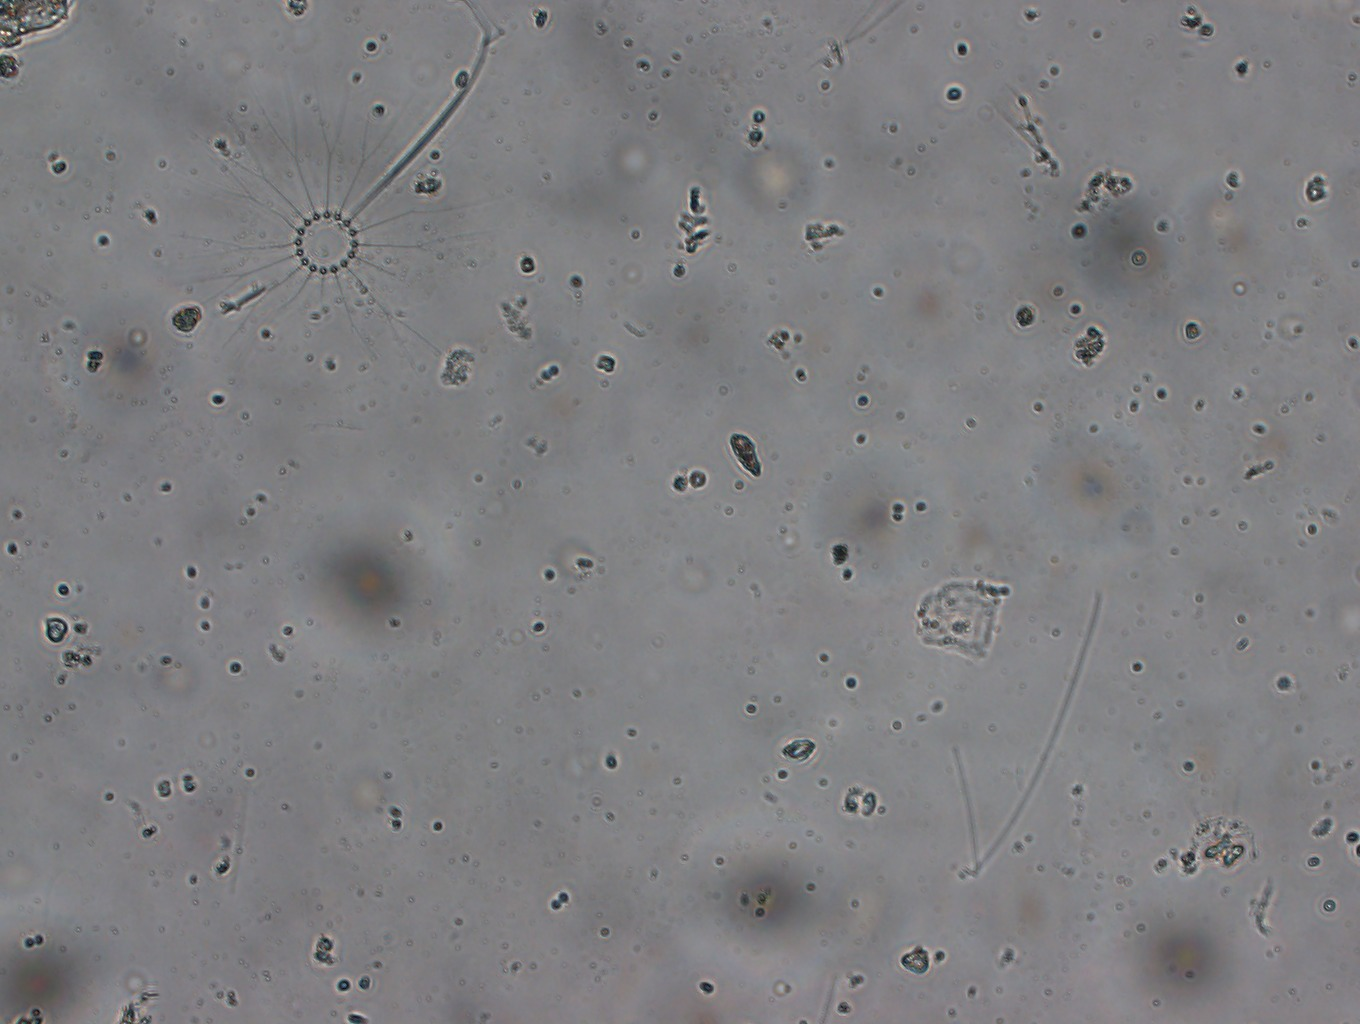bacteriastrum: (206, 131, 435, 353)
